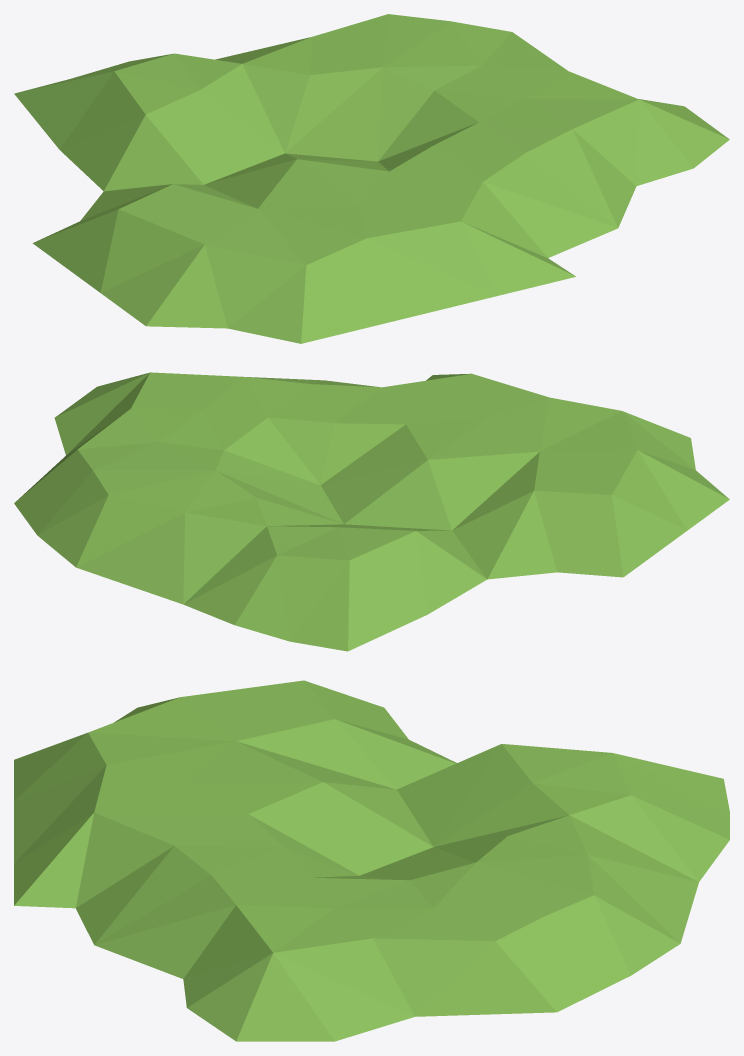
The model's file is MT_Mountain_S_b_27.fbx.
3 renders of one model, top to bottom at view 1: azimuth 30°, elevation 25°; view 2: azimuth 150°, elevation 25°; view 3: azimuth 270°, elevation 25°, orthographic. The views are drawn at different scales.
Parts seen in each view (by area): view 1: MT_Mountain_S_b_27; view 2: MT_Mountain_S_b_27; view 3: MT_Mountain_S_b_27.
Boxes of the visible parts, x1=… form: MT_Mountain_S_b_27: x1=14, y1=14, x2=729, y2=343; MT_Mountain_S_b_27: x1=14, y1=372, x2=729, y2=651; MT_Mountain_S_b_27: x1=14, y1=680, x2=729, y2=1041.
Size of the model in its own units: 2500 by 196 by 2266.
